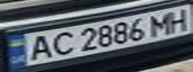2: (75, 25, 100, 53)
6: (127, 16, 151, 42)
8: (93, 21, 115, 50), (112, 19, 133, 46)
A: (21, 33, 54, 62)
C: (45, 29, 78, 57)
H: (163, 6, 193, 34)
M: (145, 10, 178, 37)
